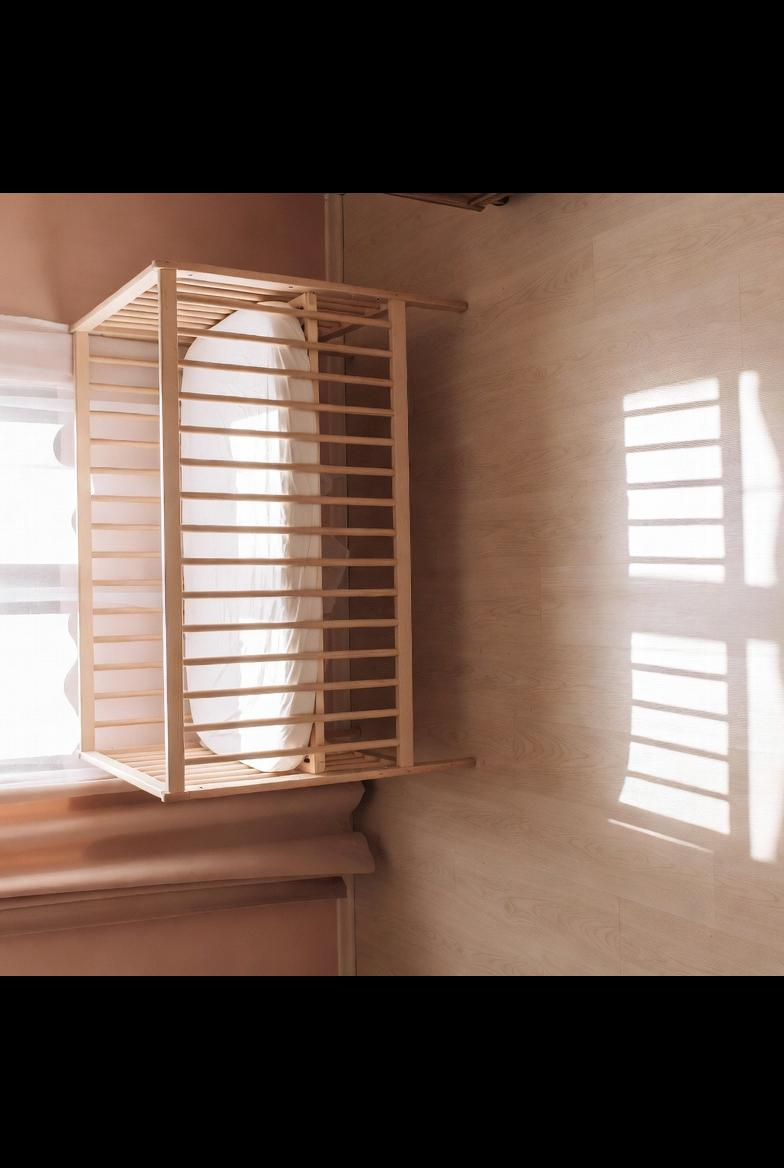crib: (72, 261, 473, 799)
